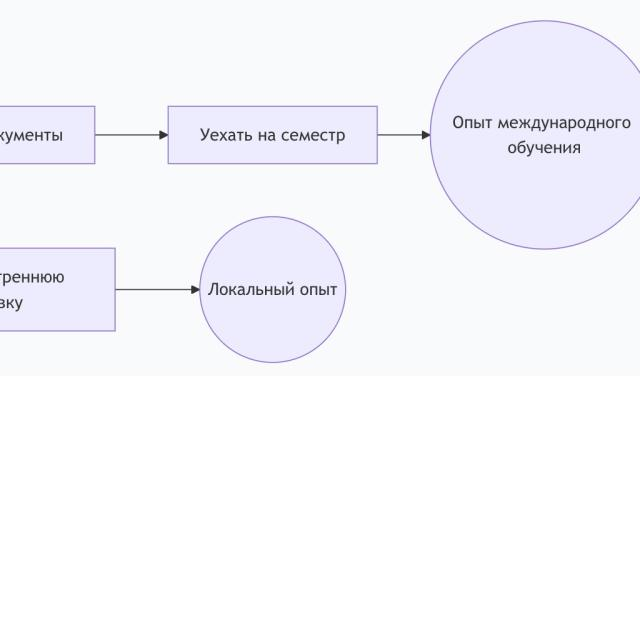arrow: (115, 282, 200, 297), (95, 127, 168, 141), (379, 128, 431, 143)
circle: (199, 215, 347, 364)
rectangle: (167, 104, 378, 165)
